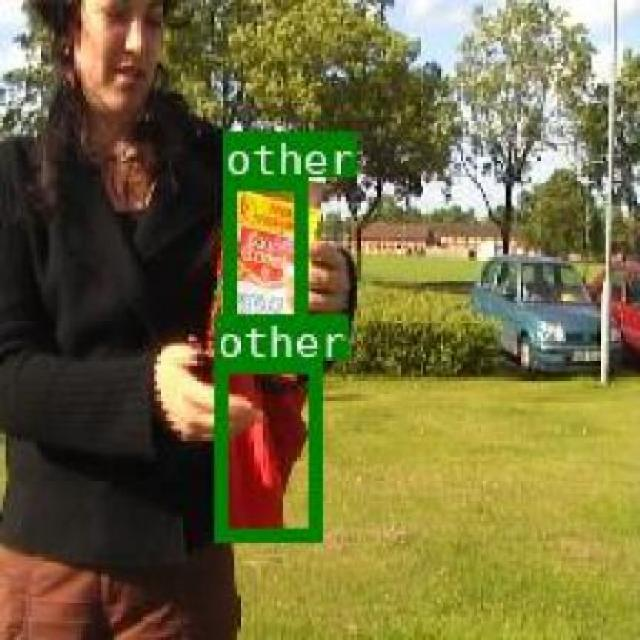other: (214, 356, 318, 538), (221, 176, 304, 369)
